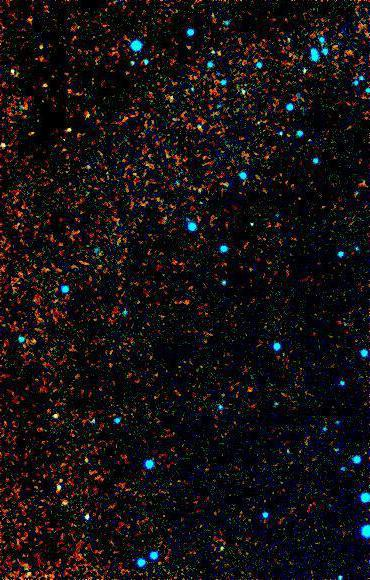star: (203, 34, 233, 64)
